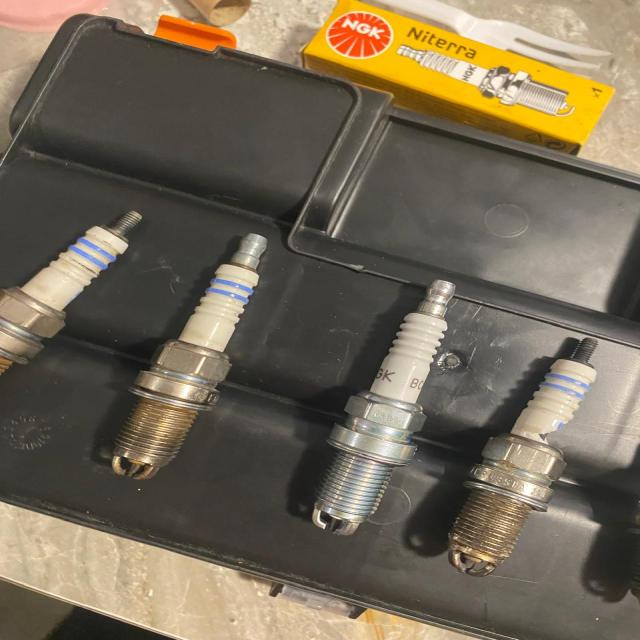damaged_spark-plug: (421, 328, 622, 584)
spark-plug: (284, 271, 467, 548), (97, 223, 283, 492)
